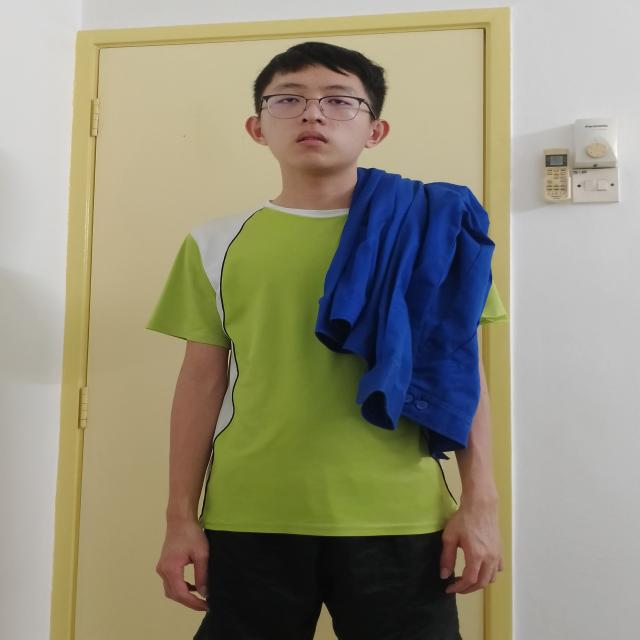person_without_labcoat: (147, 42, 506, 640)
